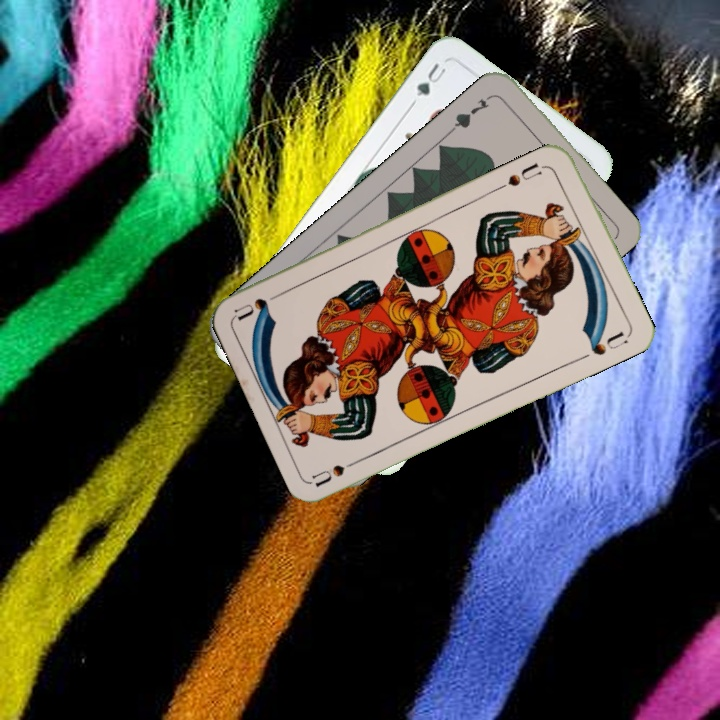G7: (447, 91, 496, 135)
GU: (412, 59, 449, 101)
SU: (309, 453, 367, 489), (503, 158, 544, 190)
